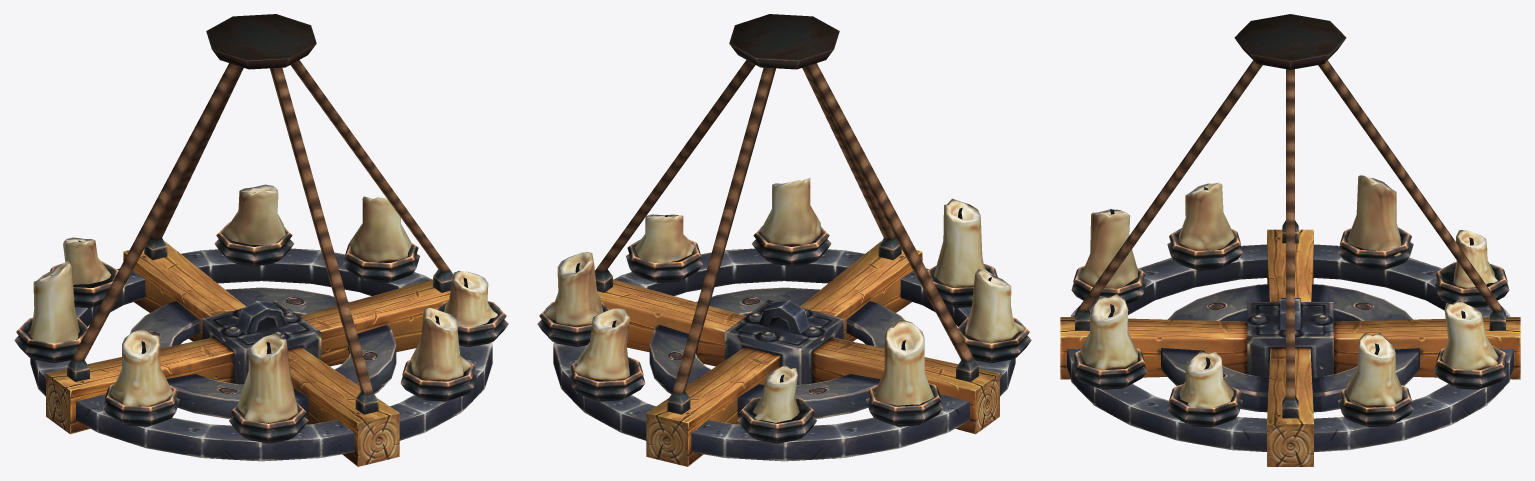
File: SM_chandelier_00.gltf
The picture shows the model from 3 angles, left to right: view 1: azimuth 30°, elevation 25°; view 2: azimuth 150°, elevation 25°; view 3: azimuth 270°, elevation 25°; orthographic projection.
Parts seen in each view (by area): view 1: SM_chandelier_00; view 2: SM_chandelier_00; view 3: SM_chandelier_00.
Boxes of the visible parts, bbox=[...] form: SM_chandelier_00: bbox=[14, 14, 508, 466]; SM_chandelier_00: bbox=[537, 14, 1031, 466]; SM_chandelier_00: bbox=[1060, 14, 1520, 466].
Size of the model in its own units: 1.11 by 0.8869 by 1.11.
Materials: 1 (1 with a texture image).
